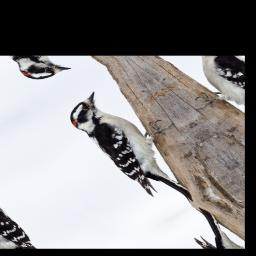Woodpecker: (56, 72, 231, 219)
